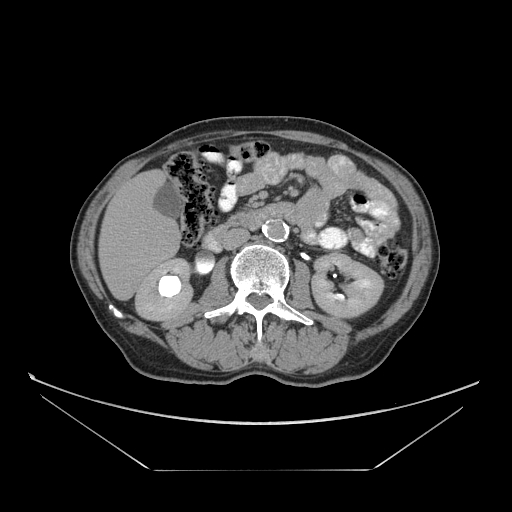left_kidney: (123, 247, 219, 318)
right_kidney: (305, 245, 387, 318)
